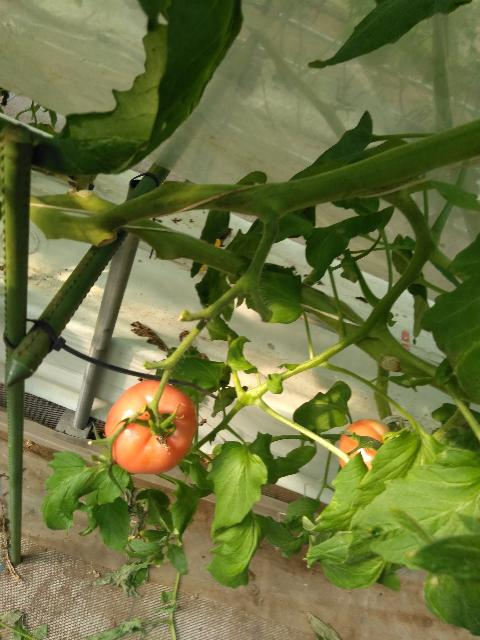b_half_ripened: (105, 381, 197, 474), (339, 419, 395, 473)
